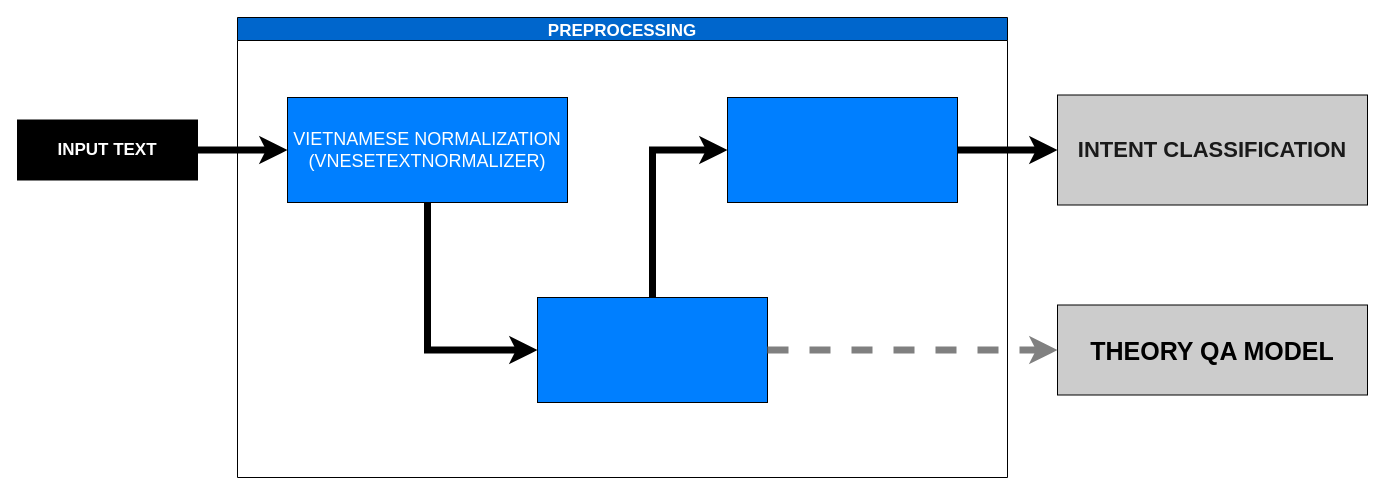
Some shapes in this 1385 by 495 pixel diagram are drawn without their labels. The shapes that lost their labels are listed below. From the top down, each one's box as (x1, y1, x2, y2) in pixels, then its label:
(726, 96, 958, 202): WORD EMBEDDING (TF-IDF VECTORIZOR)
(536, 296, 768, 402): WORD TOKENIZATION (UNDERTHESEA)
